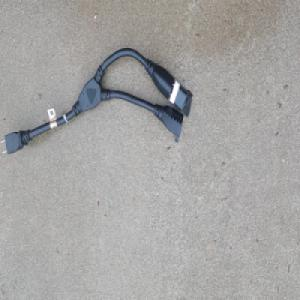Wire: (1, 46, 193, 157)
